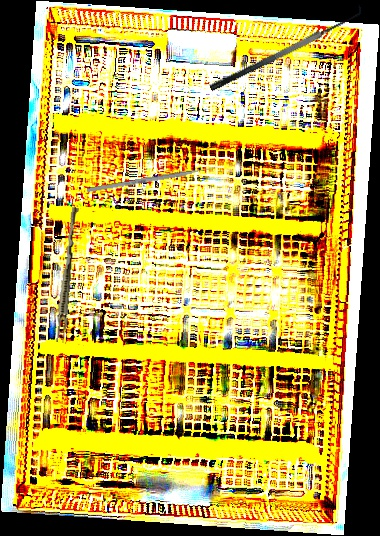Pusher: (86, 164, 224, 193)
Spatula Surgical: (203, 0, 367, 93)
Tissue Forceps: (55, 206, 79, 344)
